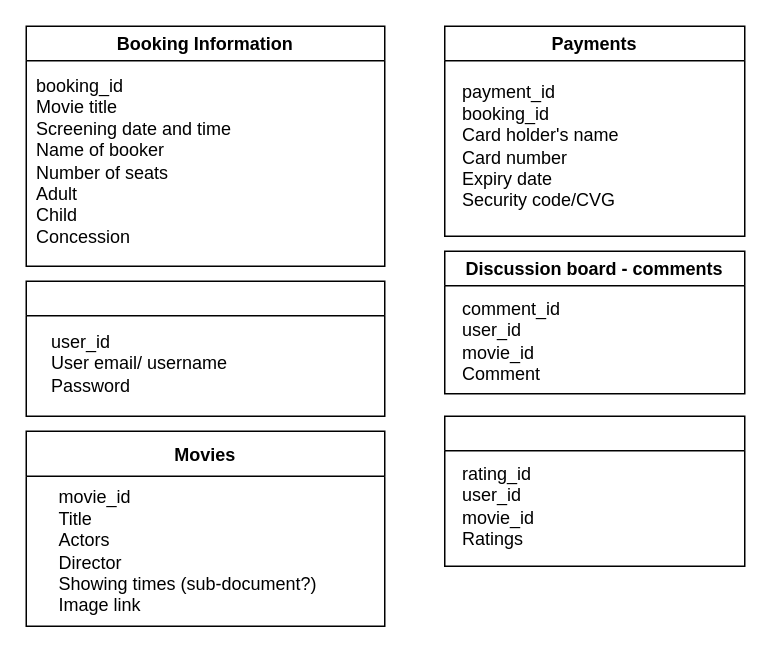
Some shapes in this 771 by 653 pixel diagram are drawn without their labels. Each missing label, with the box of its shape:
Discussion board - ratings: (443, 415, 745, 566)
Users: (25, 280, 385, 416)
